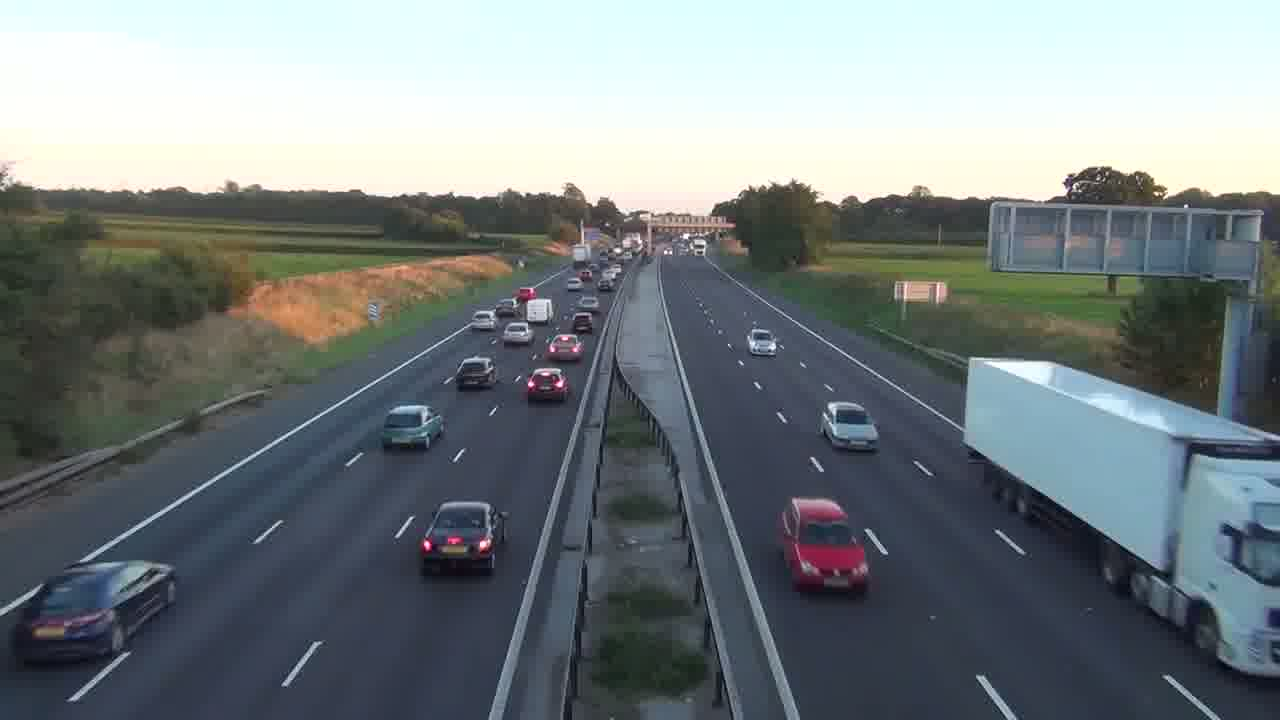car: (12, 558, 179, 667), (777, 496, 889, 596), (418, 500, 508, 576), (818, 400, 881, 452), (380, 403, 445, 451), (526, 367, 570, 404), (455, 354, 499, 390), (545, 333, 584, 364), (500, 321, 532, 347), (747, 332, 779, 357), (571, 311, 594, 336)
truck: (962, 357, 1279, 680)
